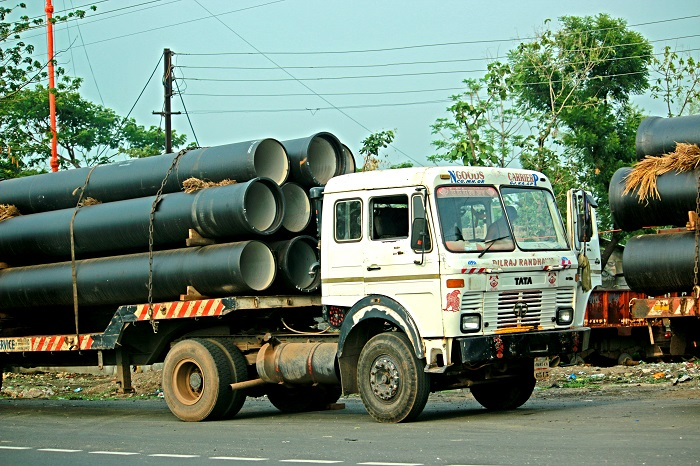truck: (52, 144, 575, 425)
